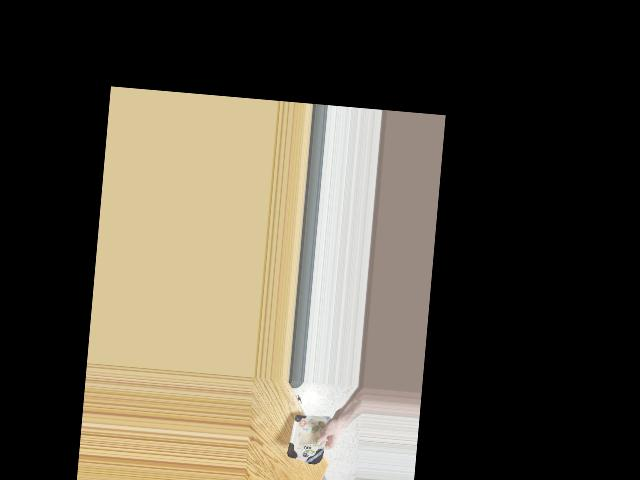cheese: (291, 407, 330, 467)
